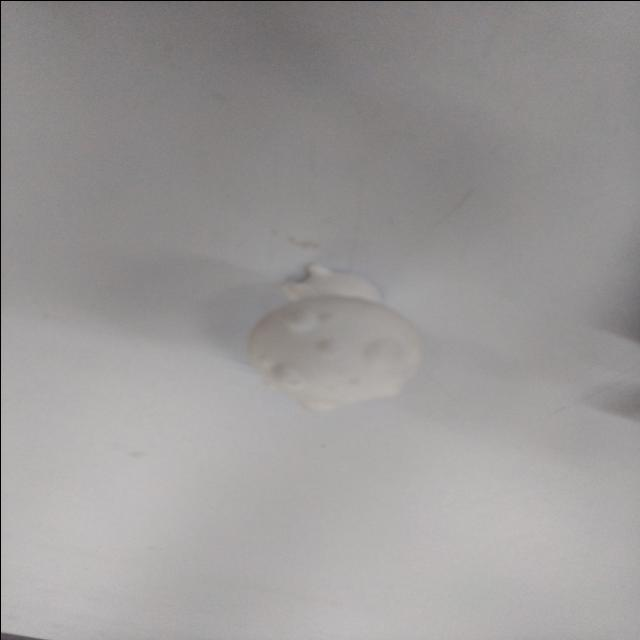Hongo: (242, 260, 434, 410)
